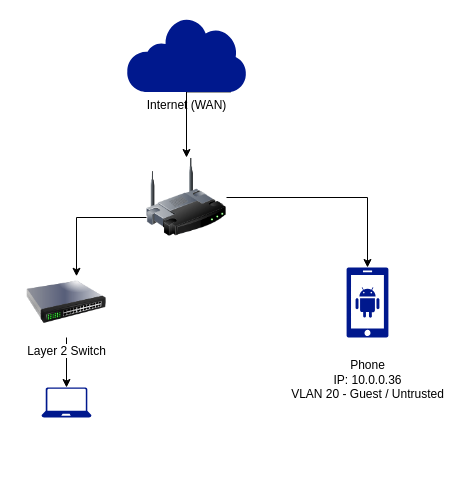
This 461x484 diagram has some shape labels left out. The shapes that lost their labels are listed below. From the top down, each one's box as (x1, y1, x2, y2) in pixels, then its label:
(146, 157, 226, 237): Router 10.0.0.10 NAT + SPI Firewall
(41, 387, 91, 417): Laptop IP: 10.0.0.41 VLAN 10 - Trusted
